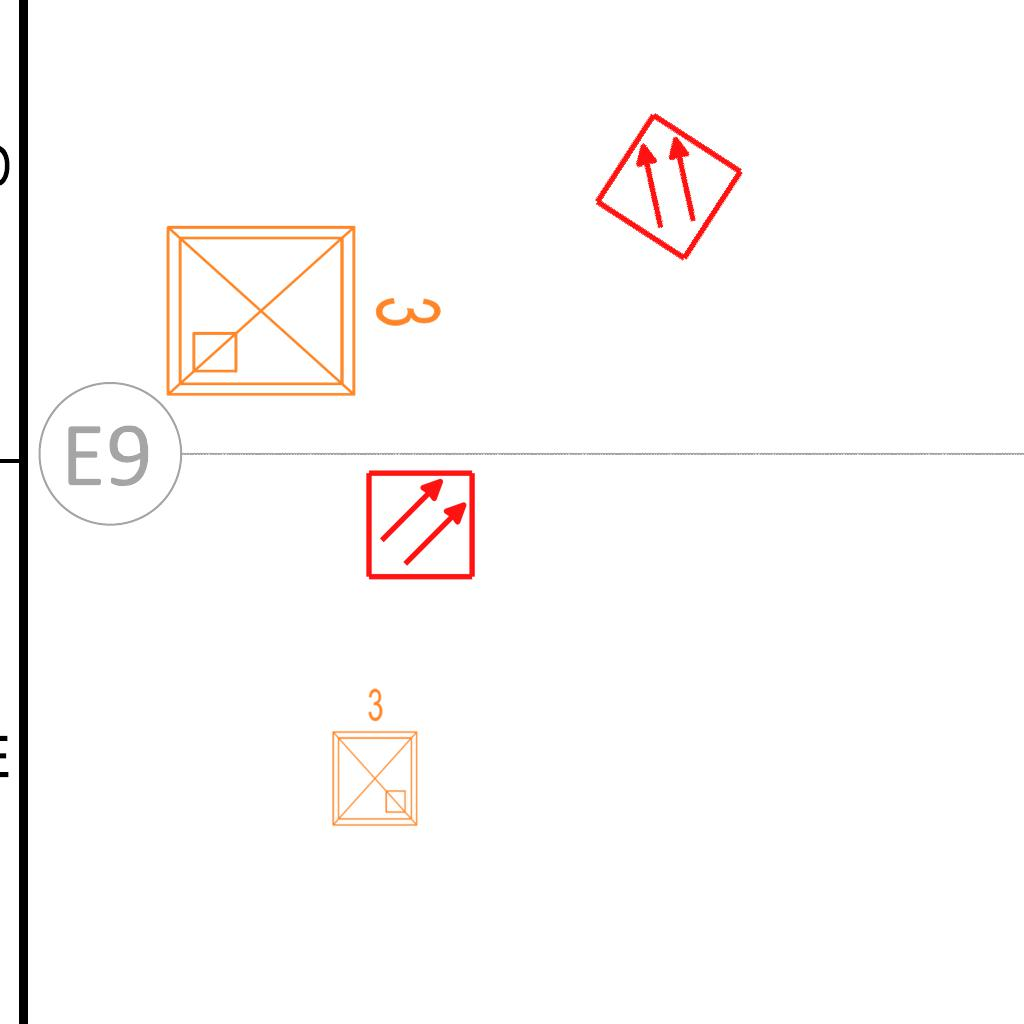Einbaudownlights_LED_Konferenzraeume: (152, 203, 452, 411), (321, 683, 425, 833)
RMO_Rauchmelder_optischer: (590, 108, 747, 265), (364, 468, 477, 581)
